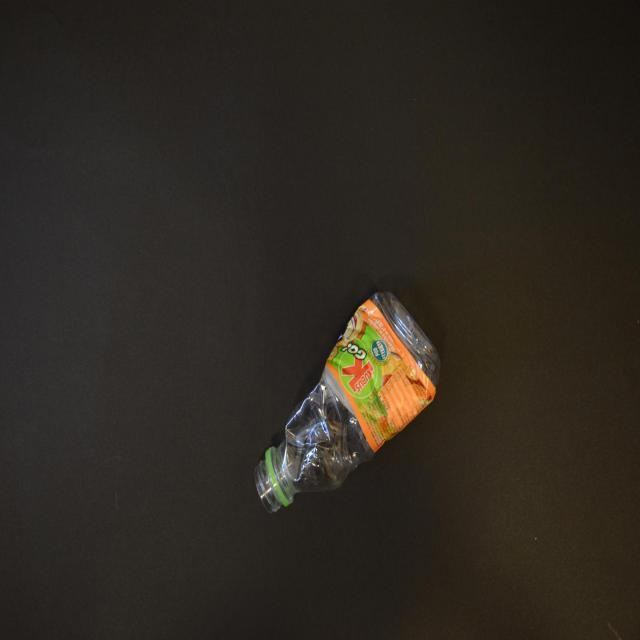plastic_bottle: (253, 291, 440, 515)
